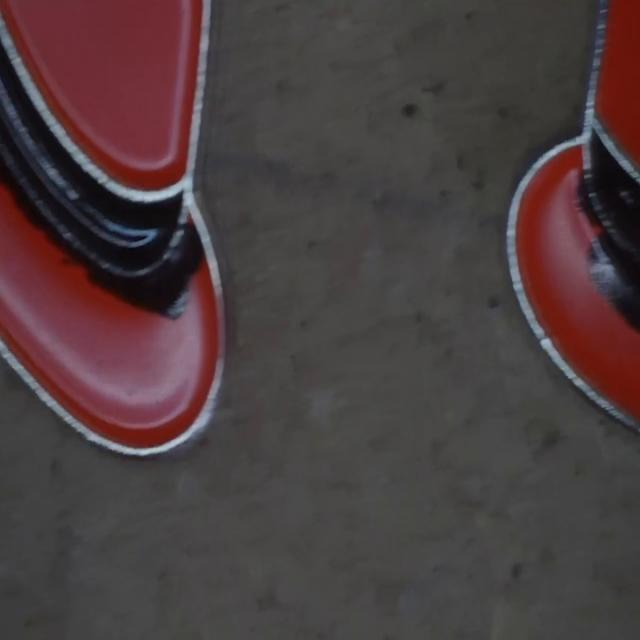Hatband: (0, 41, 191, 279), (584, 129, 640, 272)
Paint_Leak: (86, 213, 204, 318), (589, 233, 640, 330)
